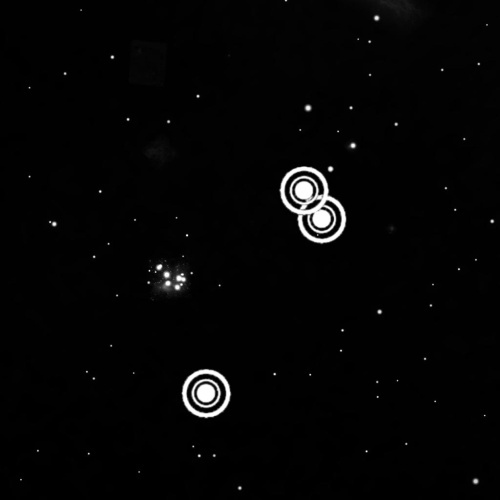canis_minor: (175, 162, 353, 426)
